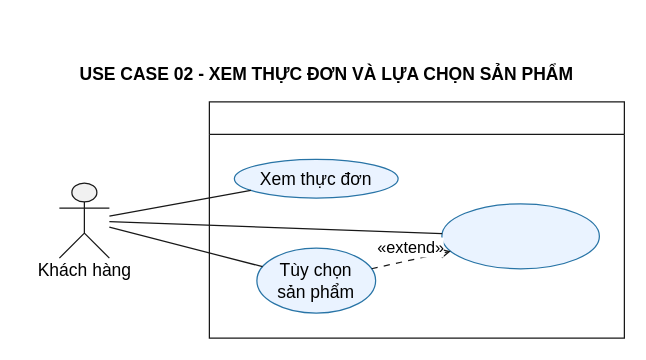
Some shapes in this 646 by 360 pixel diagram are drawn without their labels. The shapes that lost their labels are listed below. From the top down, each one's box as (x1, y1, x2, y2) in pixels, then its label:
(208, 101, 624, 338): Hệ thống BrewLite - Khám phá sản phẩm -
(441, 202, 599, 269): Xem chi tiết sản phẩm
